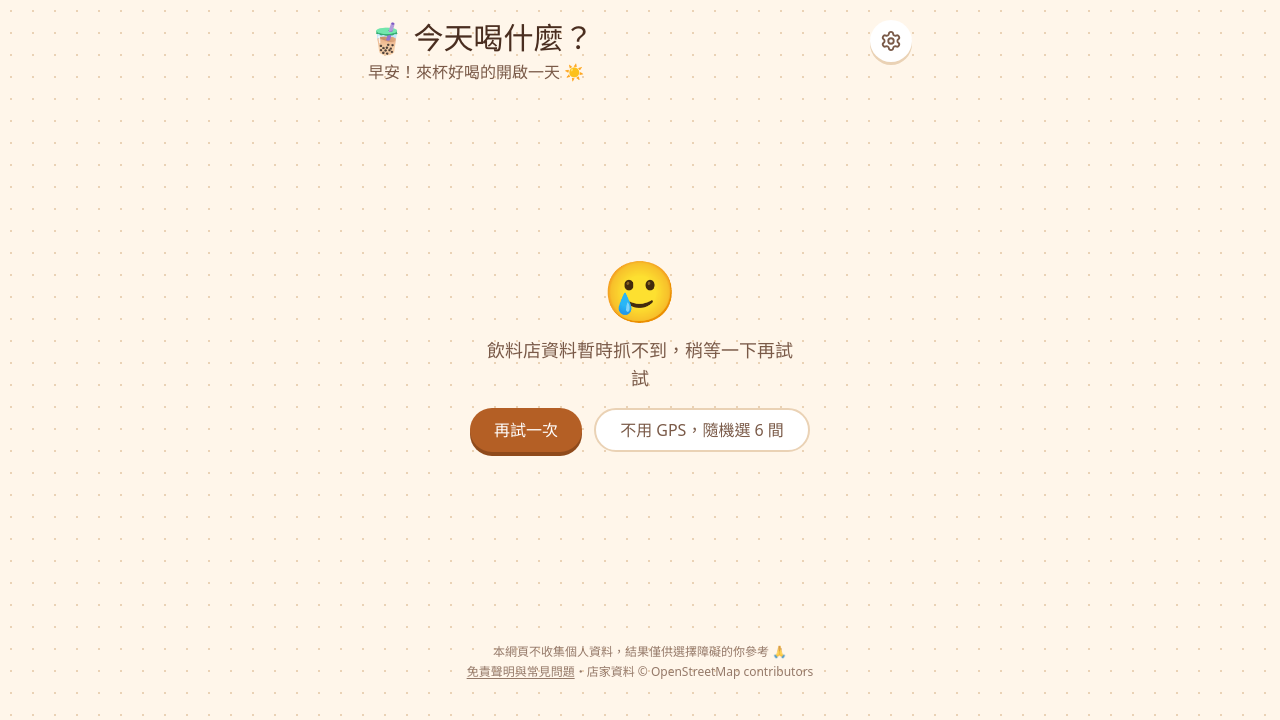
Test: 首頁：使用 GPS › 店家資料抓不到：顯示錯誤，重試成功
Expected: the text "飲料店資料暫時抓不到，稍等一下再試試" is shown, top-left (480, 336), bottom-right (800, 392)
Click the button "再試一次" at [526, 430], box top-left (470, 408), bottom-right (582, 452)
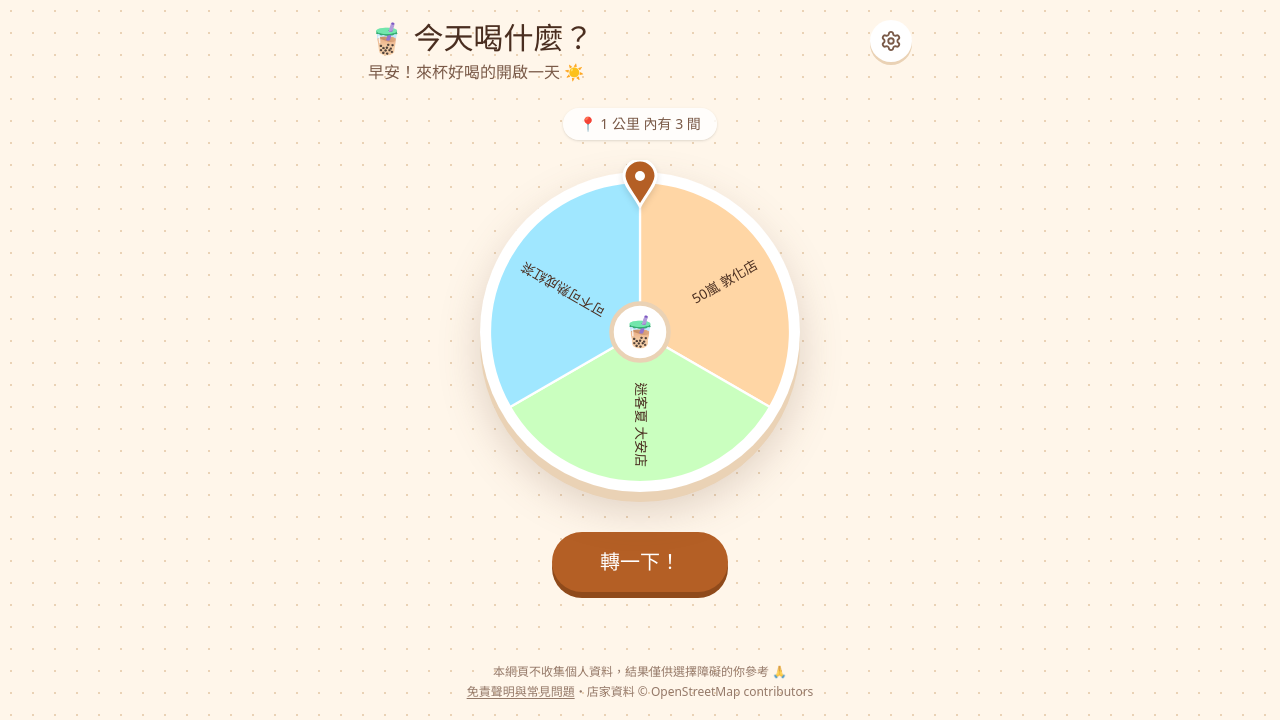
Expected: the text "📍 1 公里 內有 3 間" is shown, top-left (563, 108), bottom-right (717, 140)
